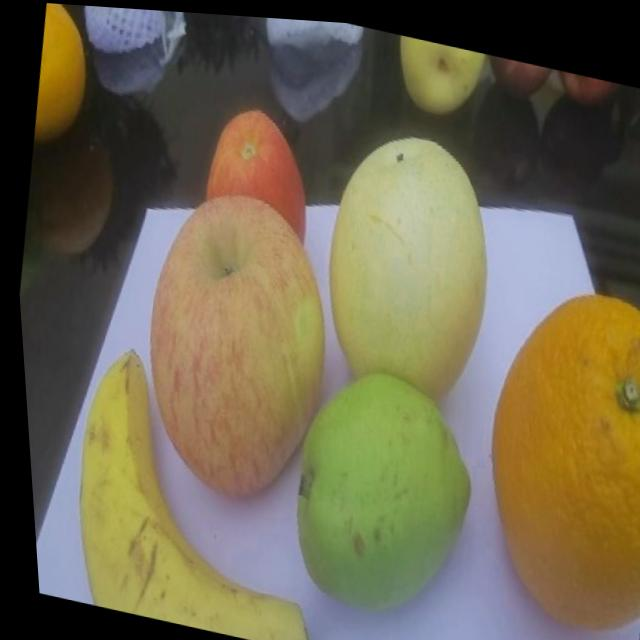Apple: (112, 173, 350, 516), (192, 96, 321, 244)
Banana: (46, 338, 343, 640)
Orange: (450, 264, 640, 638), (24, 1, 101, 152)
